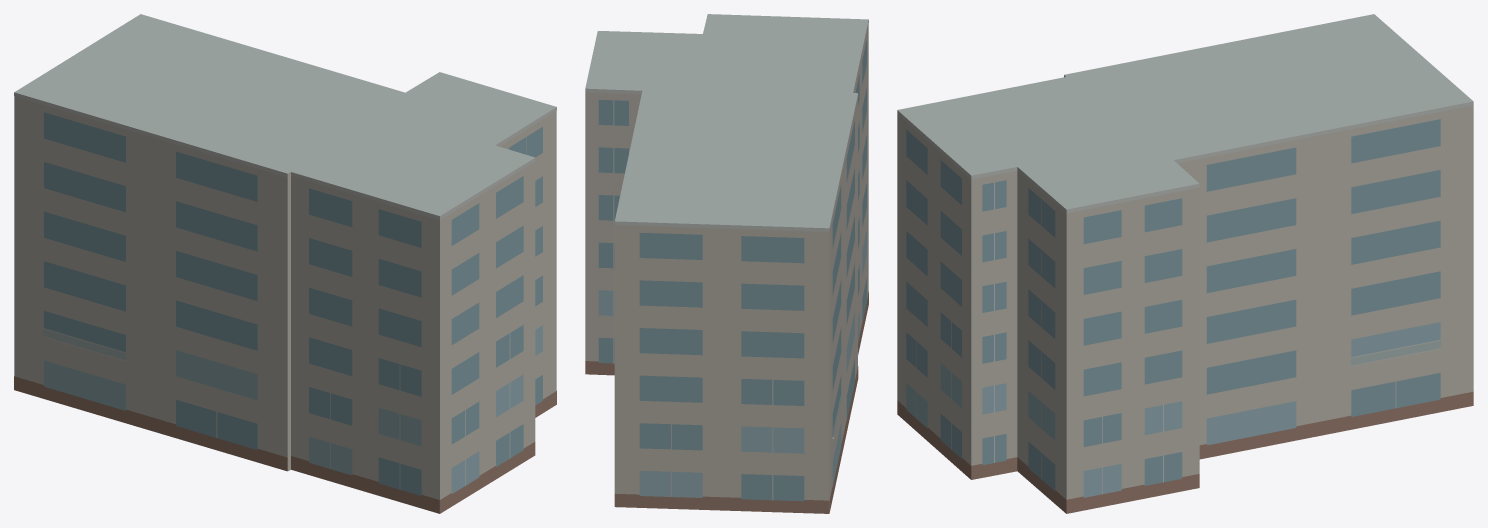
Rendered from survey-upis-32725212.glb.
3 renders of one model, left to right at view 1: azimuth 30°, elevation 25°; view 2: azimuth 150°, elevation 25°; view 3: azimuth 270°, elevation 25°, orthographic. The views are drawn at different scales.
Visible parts, largest first — view 1: survey-upis-32725212.tmp; view 2: survey-upis-32725212.tmp; view 3: survey-upis-32725212.tmp.
Boxes of the visible parts, bbox=[...] form: survey-upis-32725212.tmp: bbox=[14, 14, 556, 513]; survey-upis-32725212.tmp: bbox=[585, 14, 868, 513]; survey-upis-32725212.tmp: bbox=[897, 14, 1473, 513].
Bounding box in the file's own units: 26.33 × 19.1 × 32.79.
